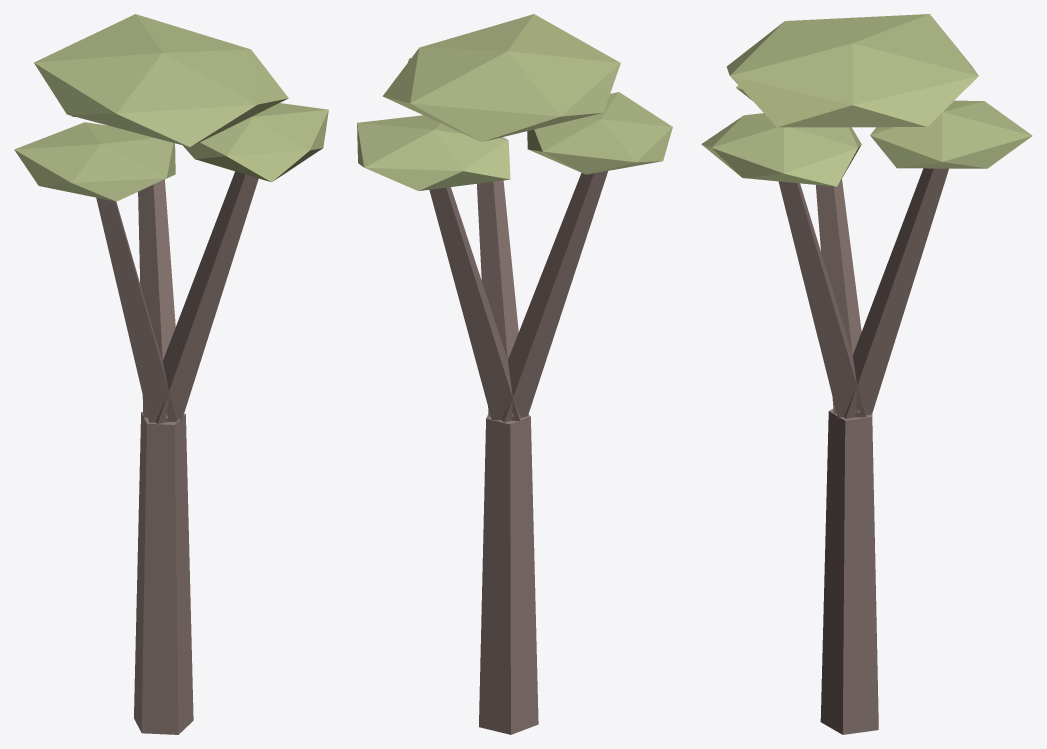
File: arv_acacia_3_sem_textura.glb
3 views of the same model, side by side, from view 1: azimuth 30°, elevation 25°; view 2: azimuth 150°, elevation 25°; view 3: azimuth 270°, elevation 25° (orthographic).
Parts seen in each view (by area): view 1: arv_acacia_3; view 2: arv_acacia_3; view 3: arv_acacia_3.
Part boxes in pixels (x1=…): arv_acacia_3: x1=14, y1=14, x2=328, y2=734; arv_acacia_3: x1=357, y1=14, x2=672, y2=734; arv_acacia_3: x1=701, y1=14, x2=1032, y2=734.
Size of the model in its own units: 0.7962 by 1.88 by 0.8304.
